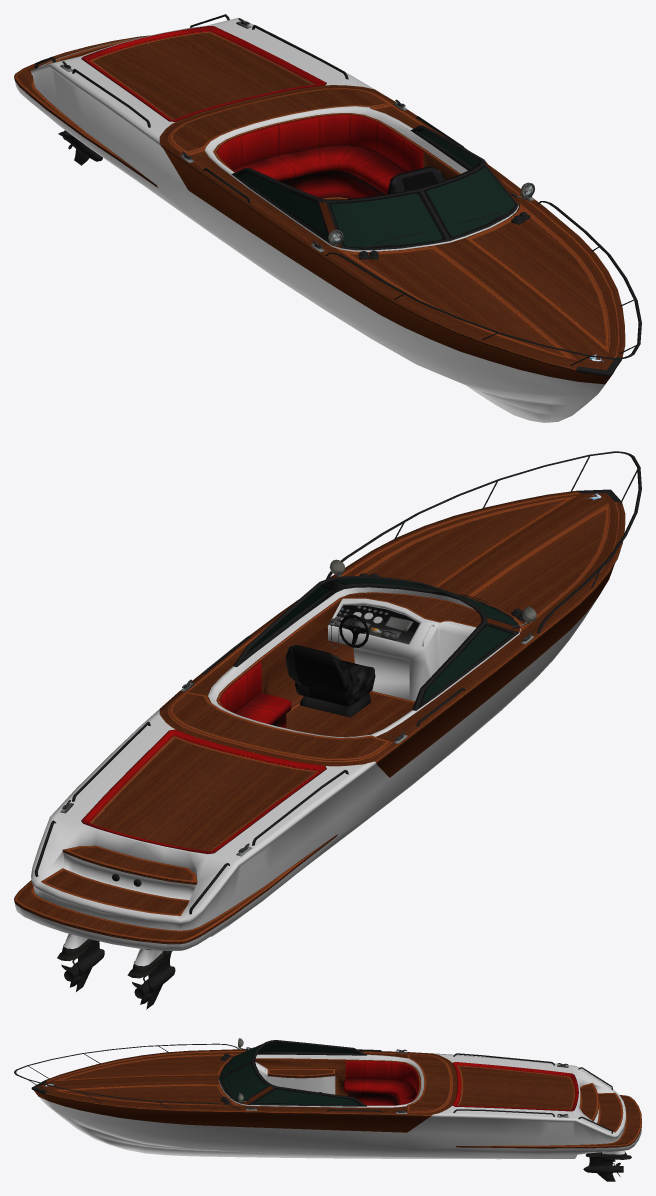
The model's file is Boat.obj.
The picture shows the model from 3 angles, top to bottom: view 1: azimuth 30°, elevation 25°; view 2: azimuth 150°, elevation 25°; view 3: azimuth 270°, elevation 25°; orthographic projection. The views are drawn at different scales.
Visible parts, largest first — view 1: rdmobj01, rdmobj00, rdmobj03, rdmobj02, rdmobj04; view 2: rdmobj01, rdmobj00, rdmobj02, rdmobj04, rdmobj03; view 3: rdmobj01, rdmobj00, rdmobj02, rdmobj03.
Boxes of the visible parts, x1,y1,x2,y2 form: rdmobj01: [14, 26, 625, 384]; rdmobj00: [14, 17, 605, 422]; rdmobj03: [236, 128, 516, 248]; rdmobj02: [34, 14, 641, 376]; rdmobj04: [387, 166, 446, 193]; rdmobj01: [14, 490, 625, 944]; rdmobj00: [14, 587, 597, 966]; rdmobj02: [34, 451, 641, 1009]; rdmobj04: [286, 615, 375, 717]; rdmobj03: [246, 578, 517, 704]; rdmobj01: [34, 1049, 641, 1148]; rdmobj00: [39, 1053, 641, 1159]; rdmobj02: [14, 1038, 631, 1181]; rdmobj03: [220, 1042, 361, 1105].
Bounding box in the file's own units: 63.9 × 52.65 × 270.
Materials: 6 (6 with a texture image).
